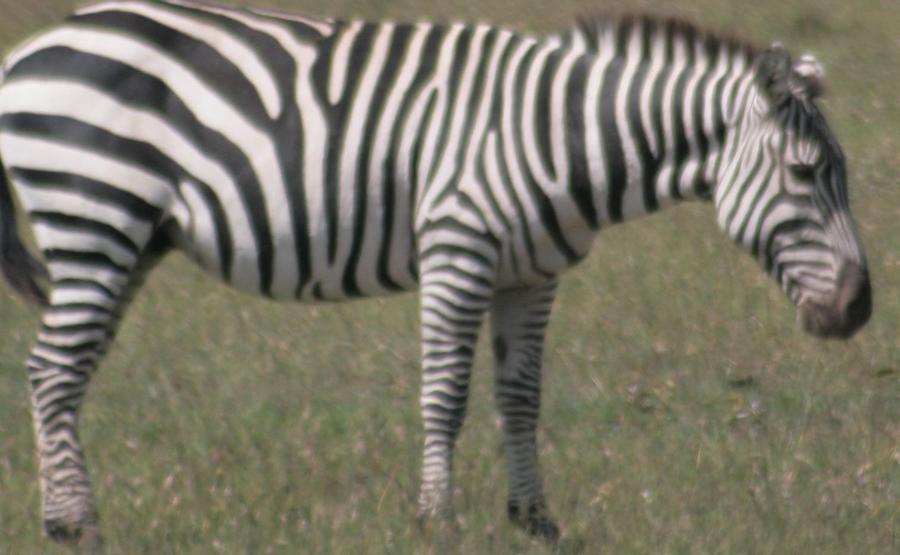zebra_plains: (23, 42, 629, 381)
